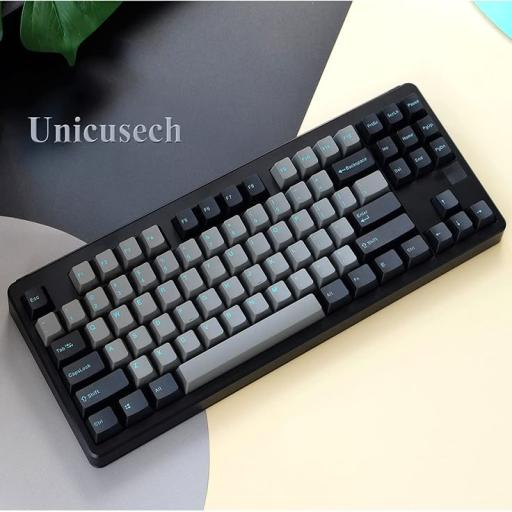KEYBOARD-2: (8, 83, 506, 467)
